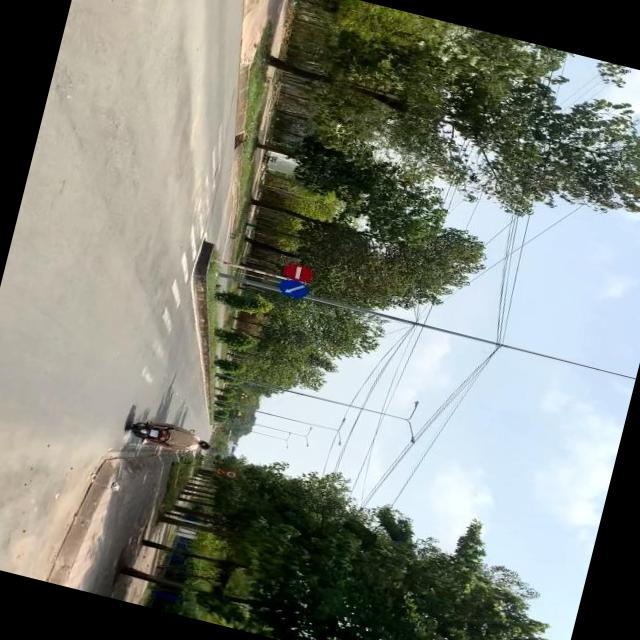P-102: (278, 260, 316, 284)
R-302a: (276, 278, 309, 302)
